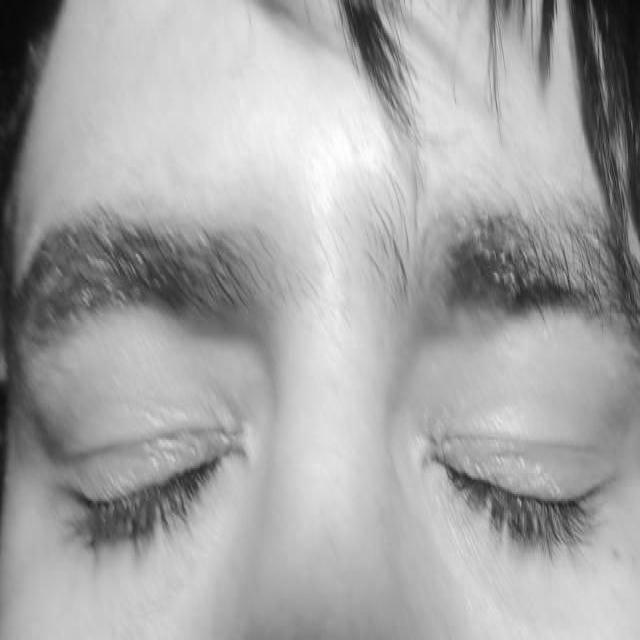real: (23, 291, 630, 605)
